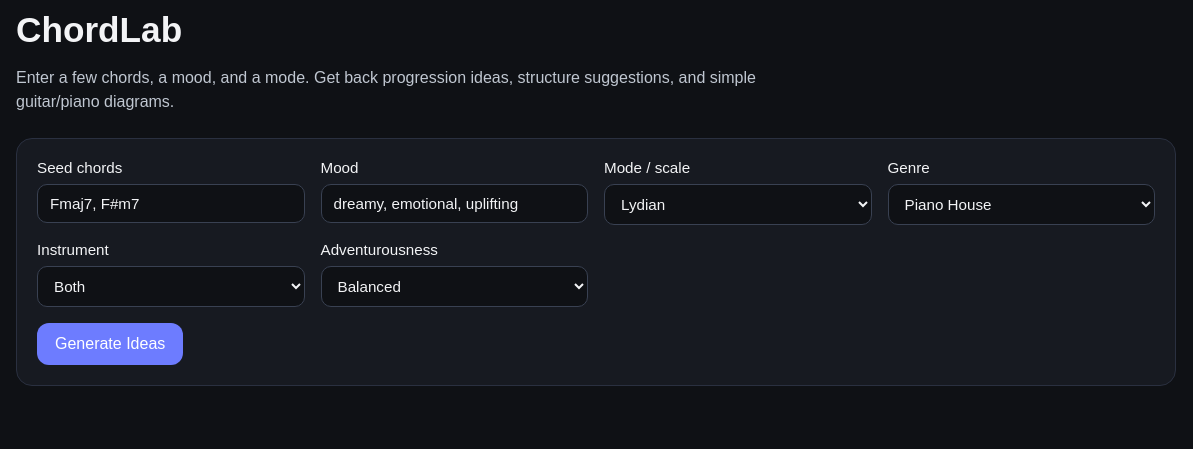
Test: HomePage › shows an error when custom mode is selected without input
The image size is (1193, 449).
Select "Custom" in the dropdown labelled "Mode / scale" at (738, 204), box [604,184,872,225]
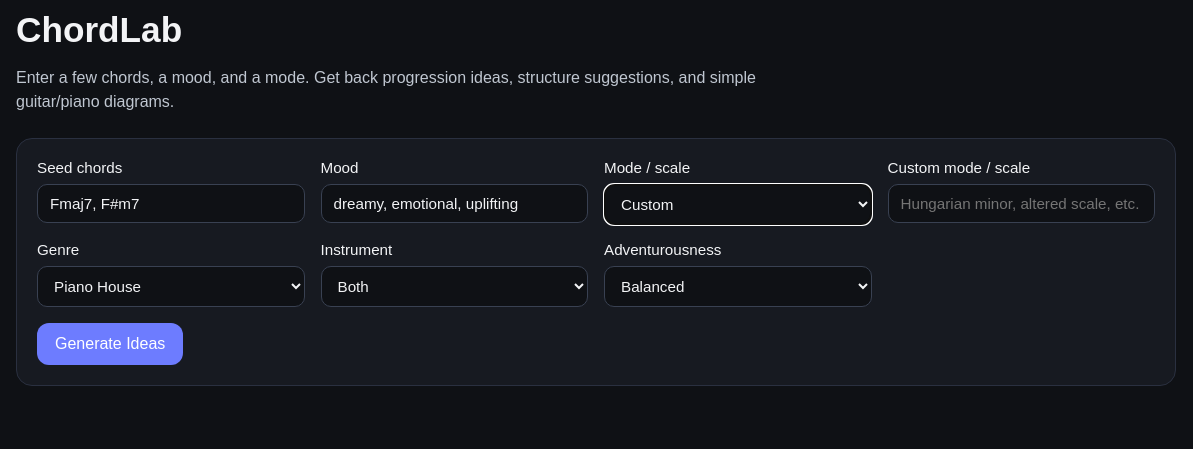
Click the button "Generate Ideas".
click(110, 344)  # box [37,323,183,365]
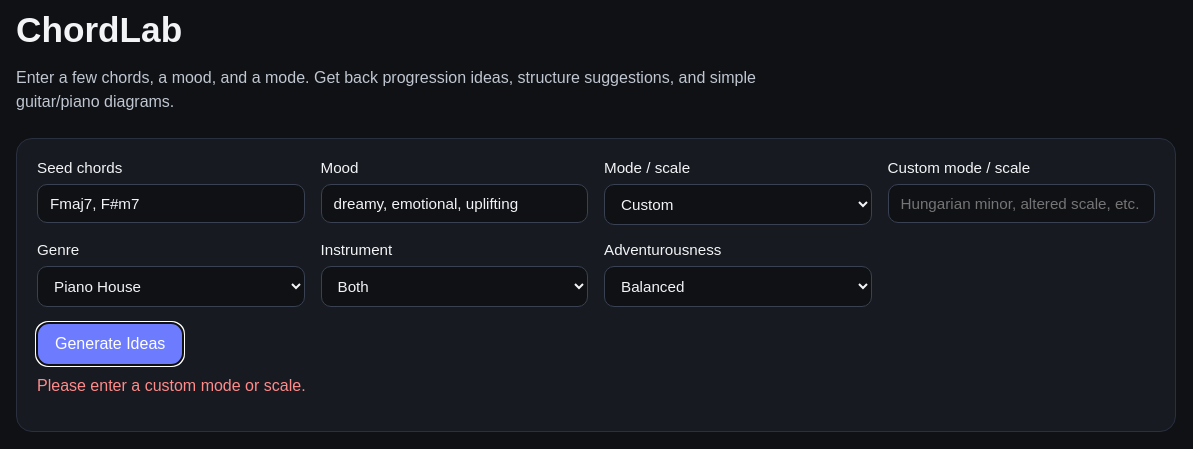
Expected: the text "Please enter a custom mode or scale." is shown, [37,377,306,394]
